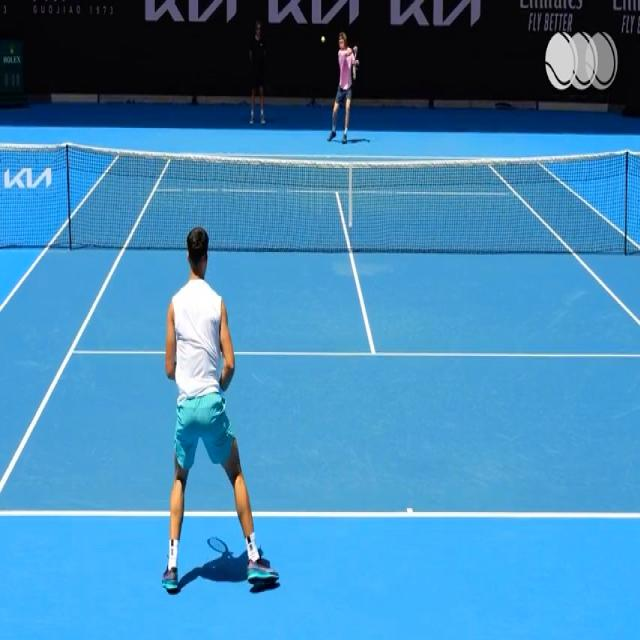ready-position: (162, 228, 278, 594)
